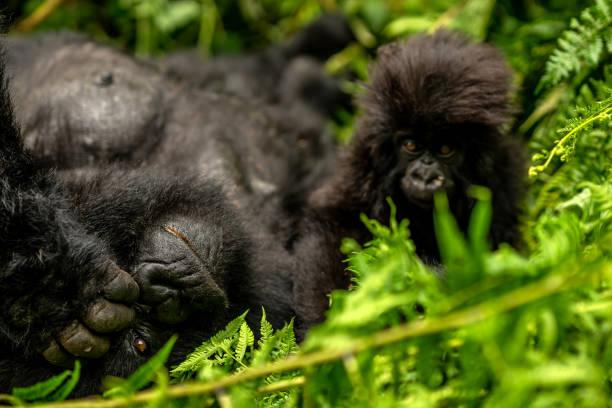goriile_montagne: (278, 24, 564, 271)
